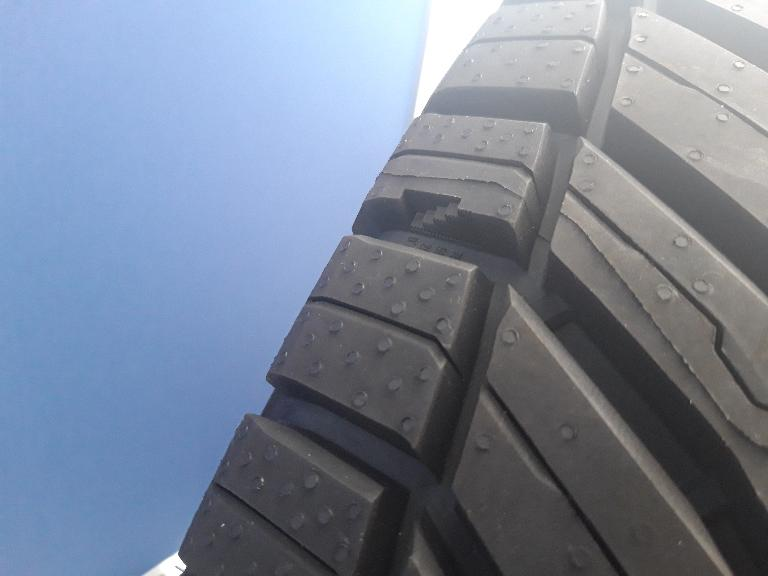temoin:100: (398, 187, 476, 248)
